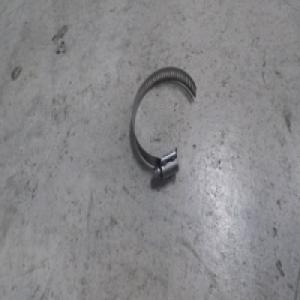AdjustableClamp: (129, 65, 195, 180)
